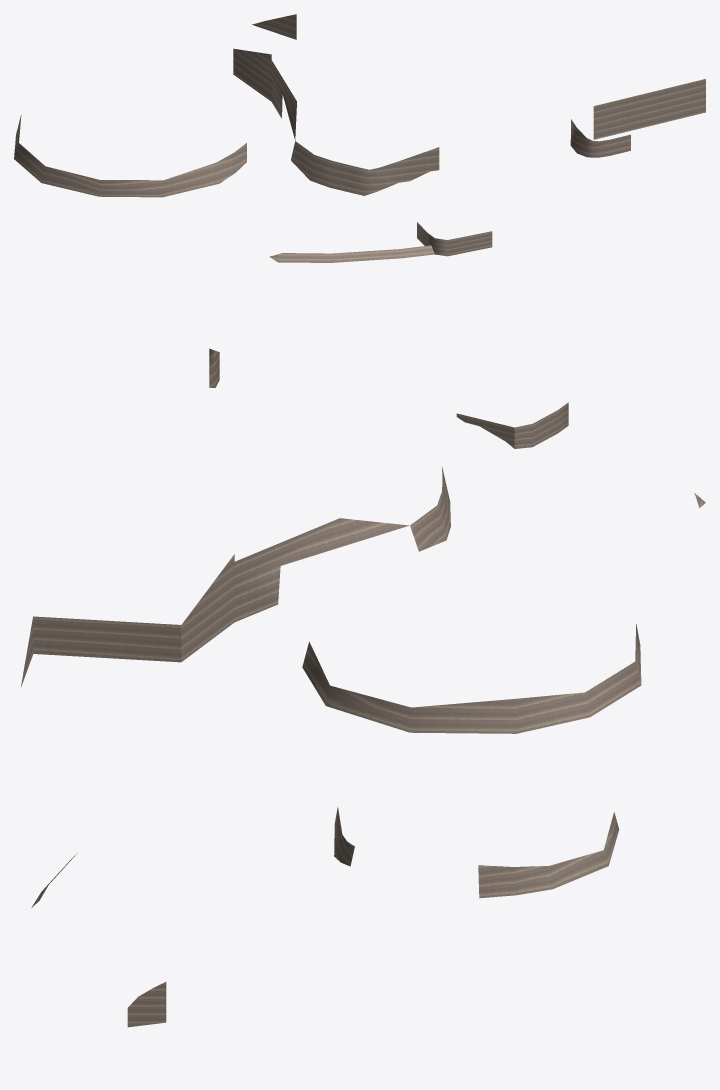
File: kd_stage_1366d7_0_15.glb
3 renders of one model, top to bottom at view 1: azimuth 30°, elevation 25°; view 2: azimuth 150°, elevation 25°; view 3: azimuth 270°, elevation 25°, orthographic. The views are drawn at different scales.
Parts seen in each view (by area): view 1: kd_stage_1366d7_0_15; view 2: kd_stage_1366d7_0_15; view 3: kd_stage_1366d7_0_15.
Part boxes in pixels (left/top/right/bottom): kd_stage_1366d7_0_15: left=14, top=14, right=705, bottom=262; kd_stage_1366d7_0_15: left=21, top=348, right=705, bottom=733; kd_stage_1366d7_0_15: left=31, top=807, right=619, bottom=1027.
Bounding box in the file's own units: 186 × 17.66 × 169.
Materials: 1 (1 with a texture image).
